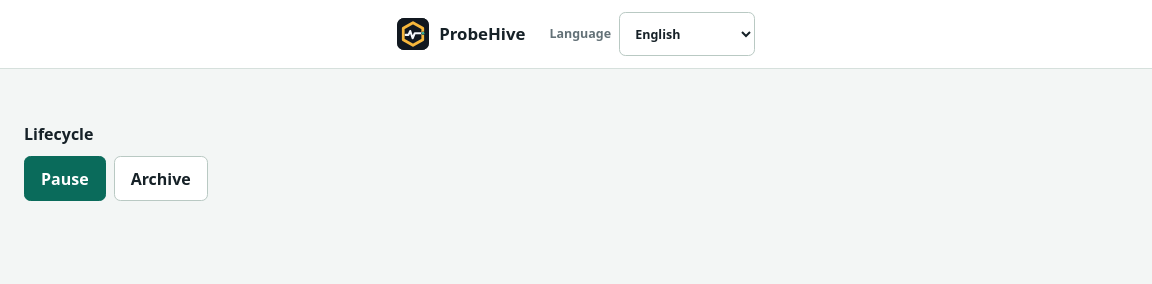
it: pauses an active Monitor and synchronizes detail and inventory query state
Click the button "Pause" at (65, 179), box 24,156 -> 106,201
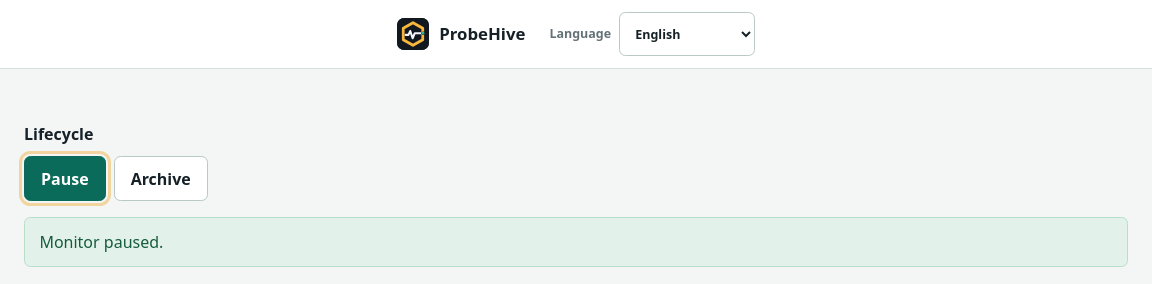
Check: the text "Monitor paused." is shown, box 24,217 -> 1128,267
